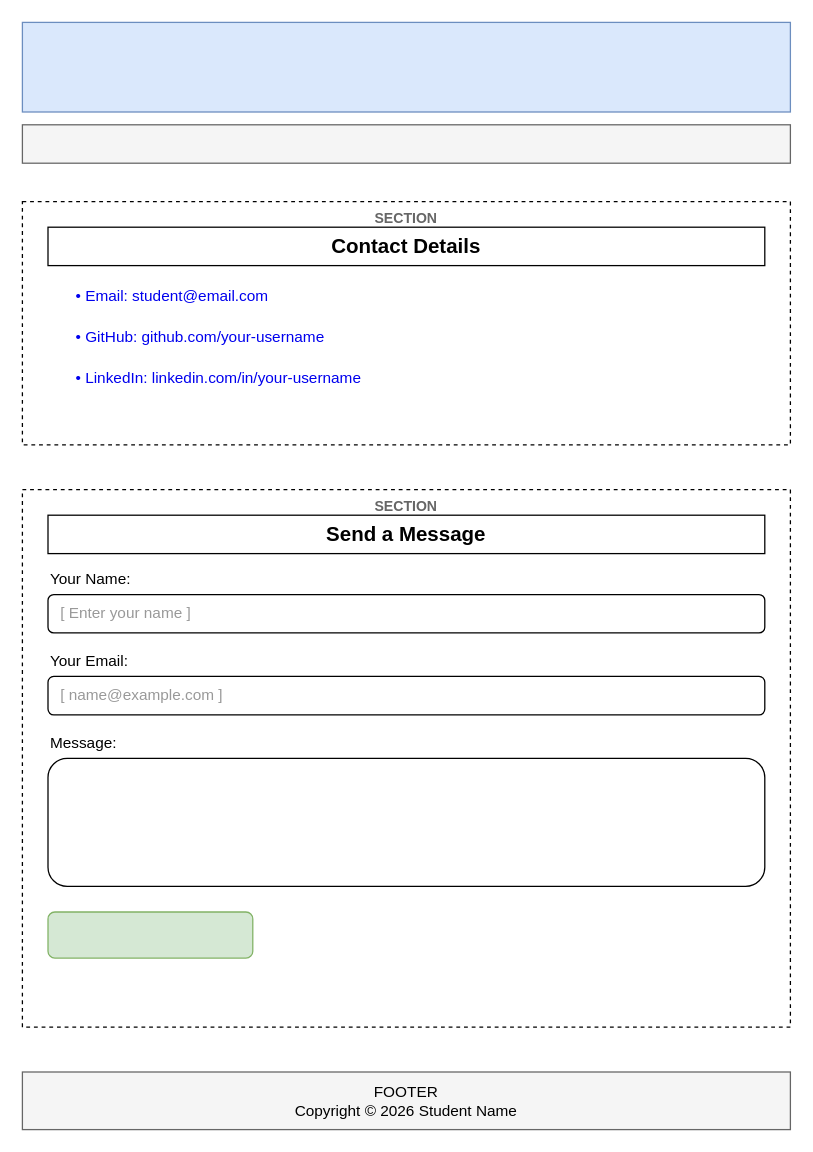
The diagram is 813 pixels wide and 1152 high, and some of its shapes have lost their labels. Here are the shapes that lost their labels. From the top down, the centre of each, then its label:
At (405,66): "HEADER Contact Me Get in touch for collaborations, questions, or feedback".
At (405,143): "NAV: ← Back to Home Page".
At (406,821): "[ Write your message here ]".
At (150,934): "Send Message".
